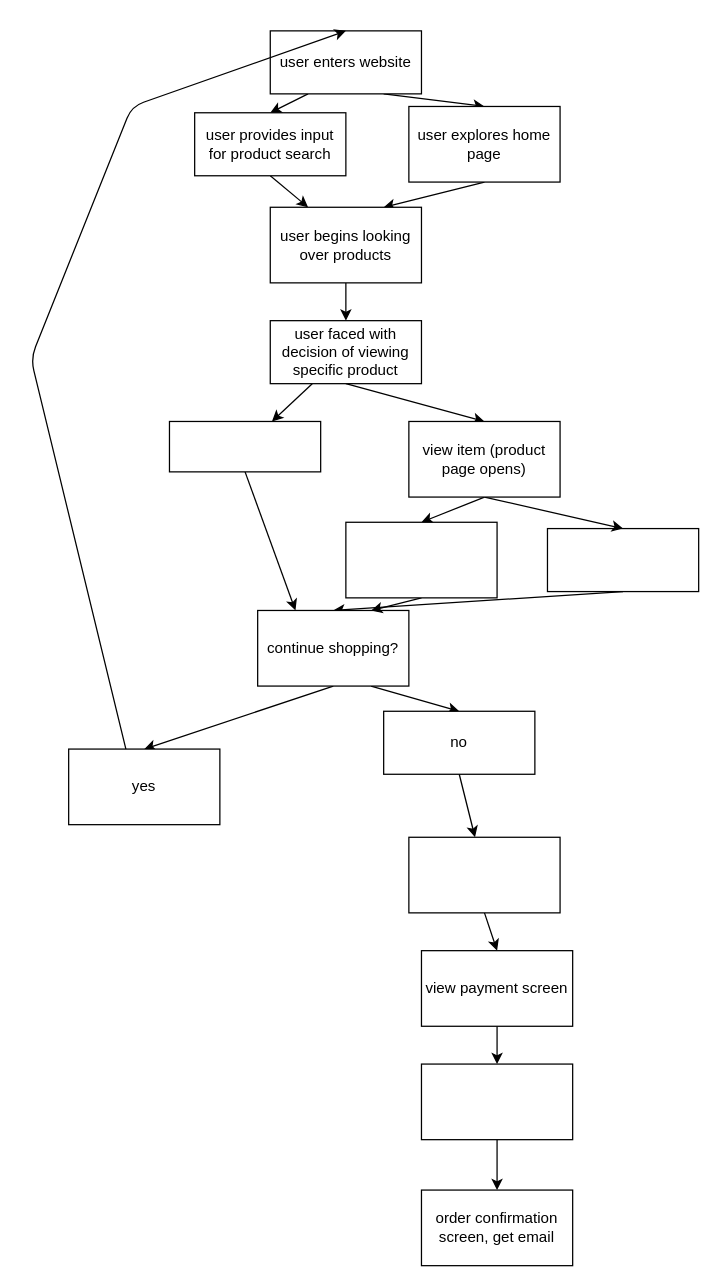
This 721x1288 diagram has some shape labels left out. The centre of each missing label's shape, as x and y in pixels:
"add to cart (gets confirmation)" goes at pixel 622 559.
"check out?" goes at pixel 484 874.
"don't add to cart" goes at pixel 421 559.
"don't view item" goes at pixel 244 446.
"payment input" goes at pixel 496 1101.
